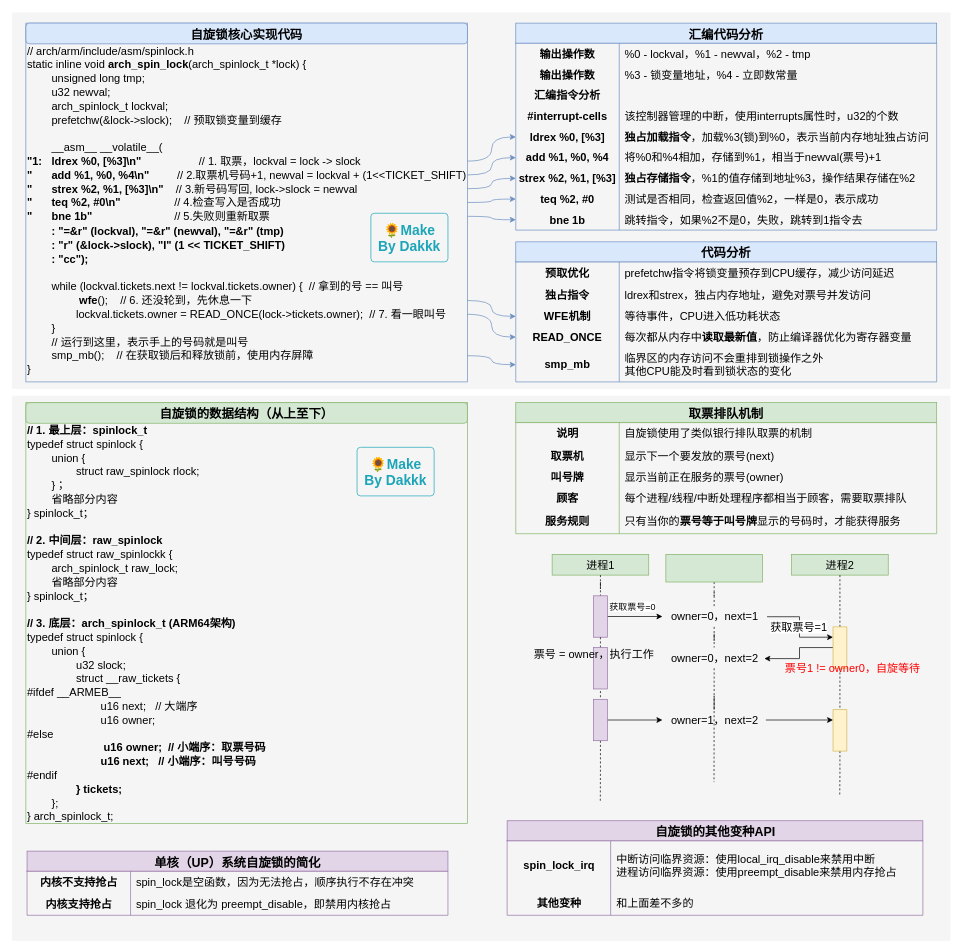
Some shapes in this 962 by 952 pixel diagram are drawn without their labels. Each missing label, with the centre of its shape:
"初始状态 owner=0 next=0" goes at (x=713, y=568).
"工作执行完毕，释放锁" goes at (x=600, y=720).
"票号1 != owner1，开始工作" goes at (x=839, y=730).
